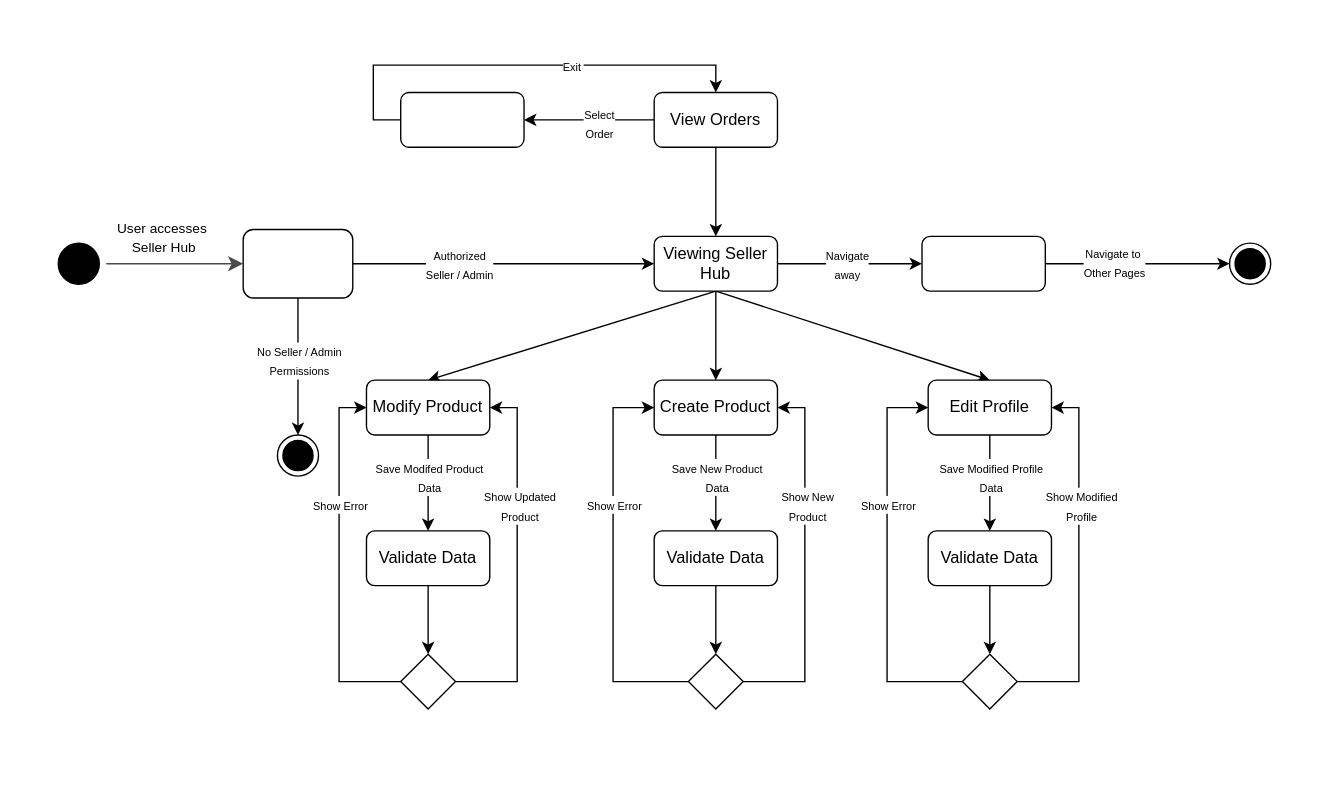
The diagram is 1334 pixels wide and 786 high, and some of its shapes have lost their labels. Each missing label, with the box of its shape:
Authentication Check: (242, 228, 353, 298)
Navigation Bar: (921, 235, 1045, 291)
Show Order Data: (399, 91, 524, 147)
